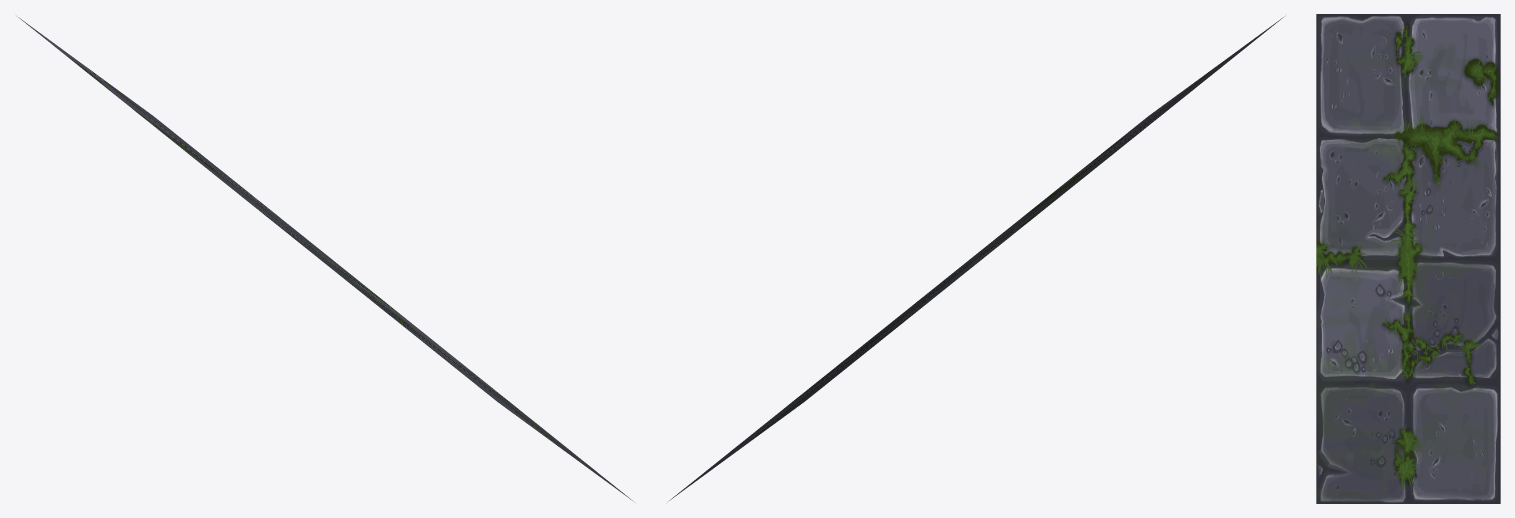
The model's file is MOD_Stairs_01_BotCap_1_half.fbx.
3 views of the same model, side by side, from view 1: azimuth 30°, elevation 25°; view 2: azimuth 150°, elevation 25°; view 3: azimuth 270°, elevation 25° (orthographic). The views are drawn at different scales.
Parts seen in each view (by area): view 1: MOD_Stairs_01_BotCap_1_half; view 2: MOD_Stairs_01_BotCap_1_half; view 3: MOD_Stairs_01_BotCap_1_half.
Boxes of the visible parts, x1,y1,x2,y2 form: MOD_Stairs_01_BotCap_1_half: (18, 17, 632, 500); MOD_Stairs_01_BotCap_1_half: (669, 17, 1283, 500); MOD_Stairs_01_BotCap_1_half: (1316, 14, 1500, 503).
Bounding box in the file's own units: 400 × 400 × 200.
